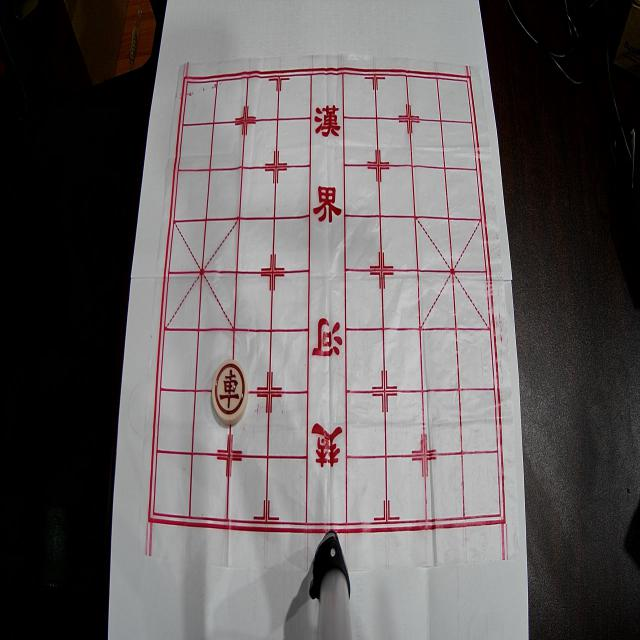red-chariot: (212, 359, 248, 425)
